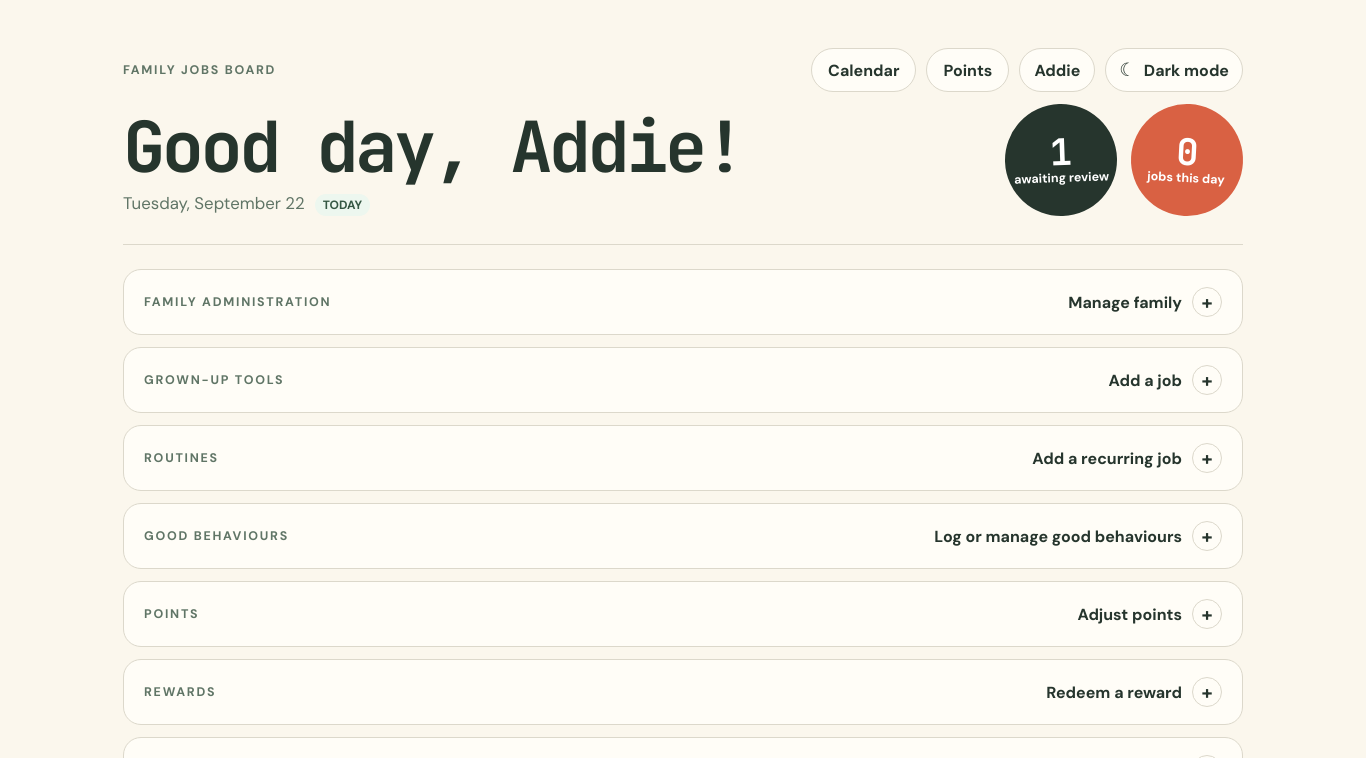
Scenario: Approvals panel › counts earlier days' pending work on today's board and reviews it from there
The width and height of the screenshot is (1366, 758).
Expected: the heading "Good day, Addie!" is shown, [123,112,742,182]
Expected: the text "Feed the dog" is not shown
Click the button with aria-label "1 jobs awaiting review" at (1061, 160), box [1003,102,1119,218]
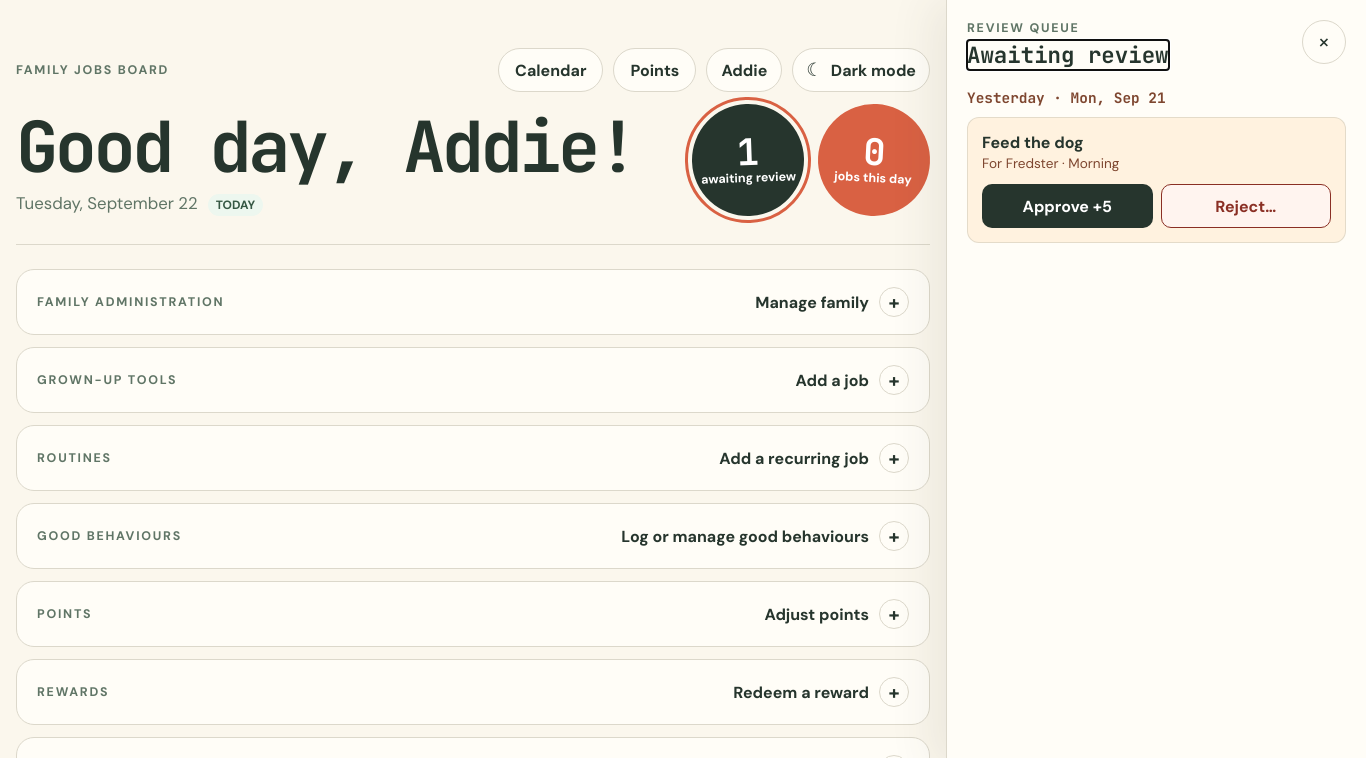
Now the text "Feed the dog" is shown, box [982,132,1084,153]
Note: The board doesn't hold yesterday's job, but the decision still counts at once.
Click the button named "Approve +5 Feed the dog for Fredster" at (1067, 206), box [982,184,1152,228]
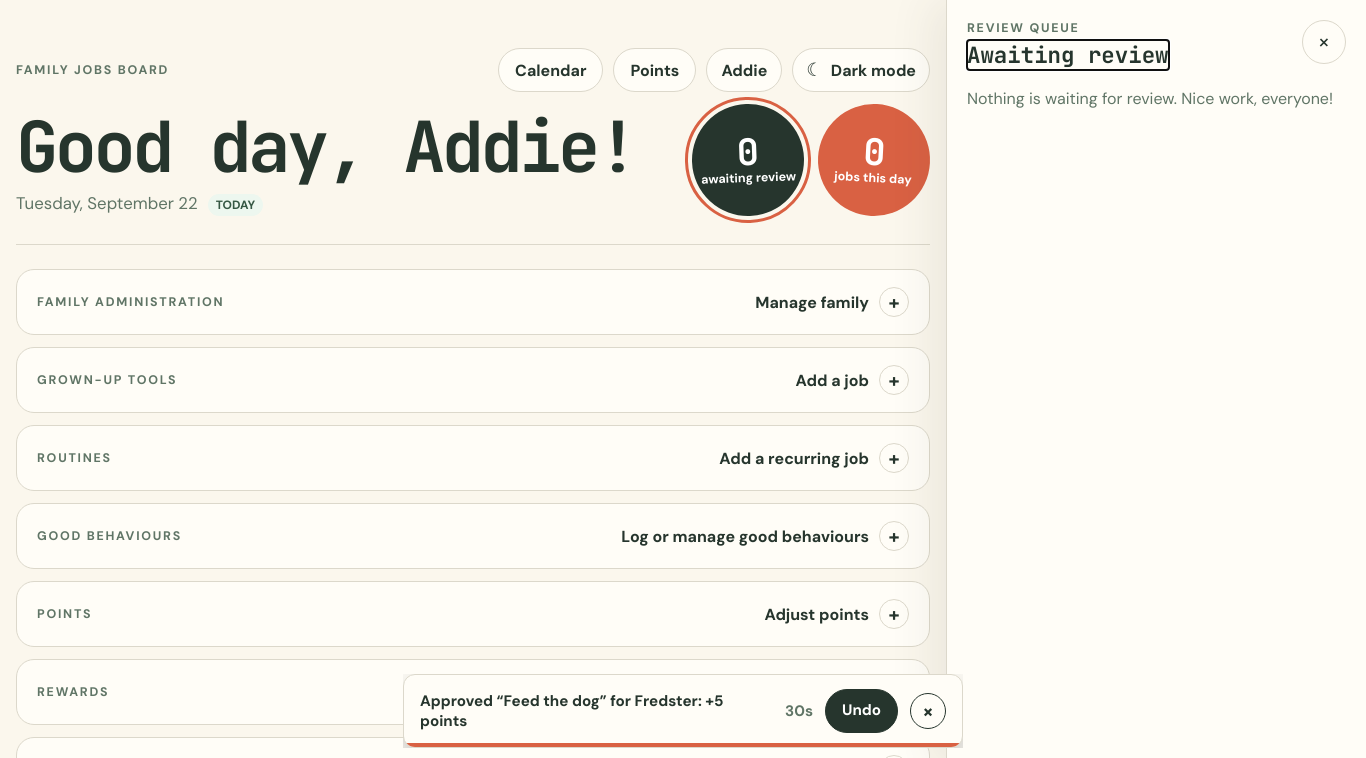
Now the button with aria-label "0 jobs awaiting review" is shown, box [690,102,806,218]
